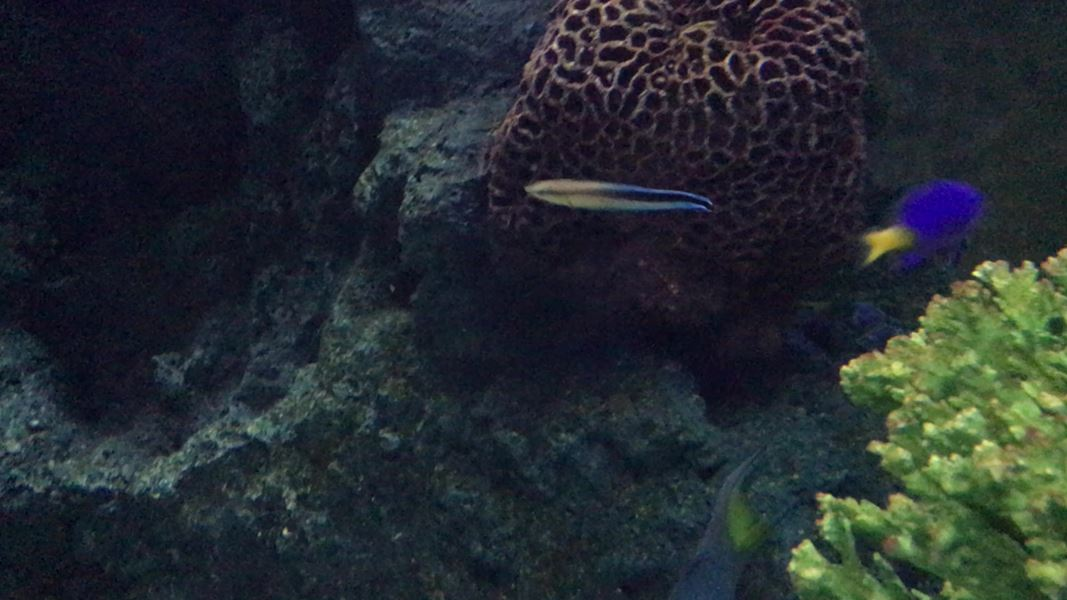Bluesteak cleaner wrasse: (515, 177, 727, 234)
